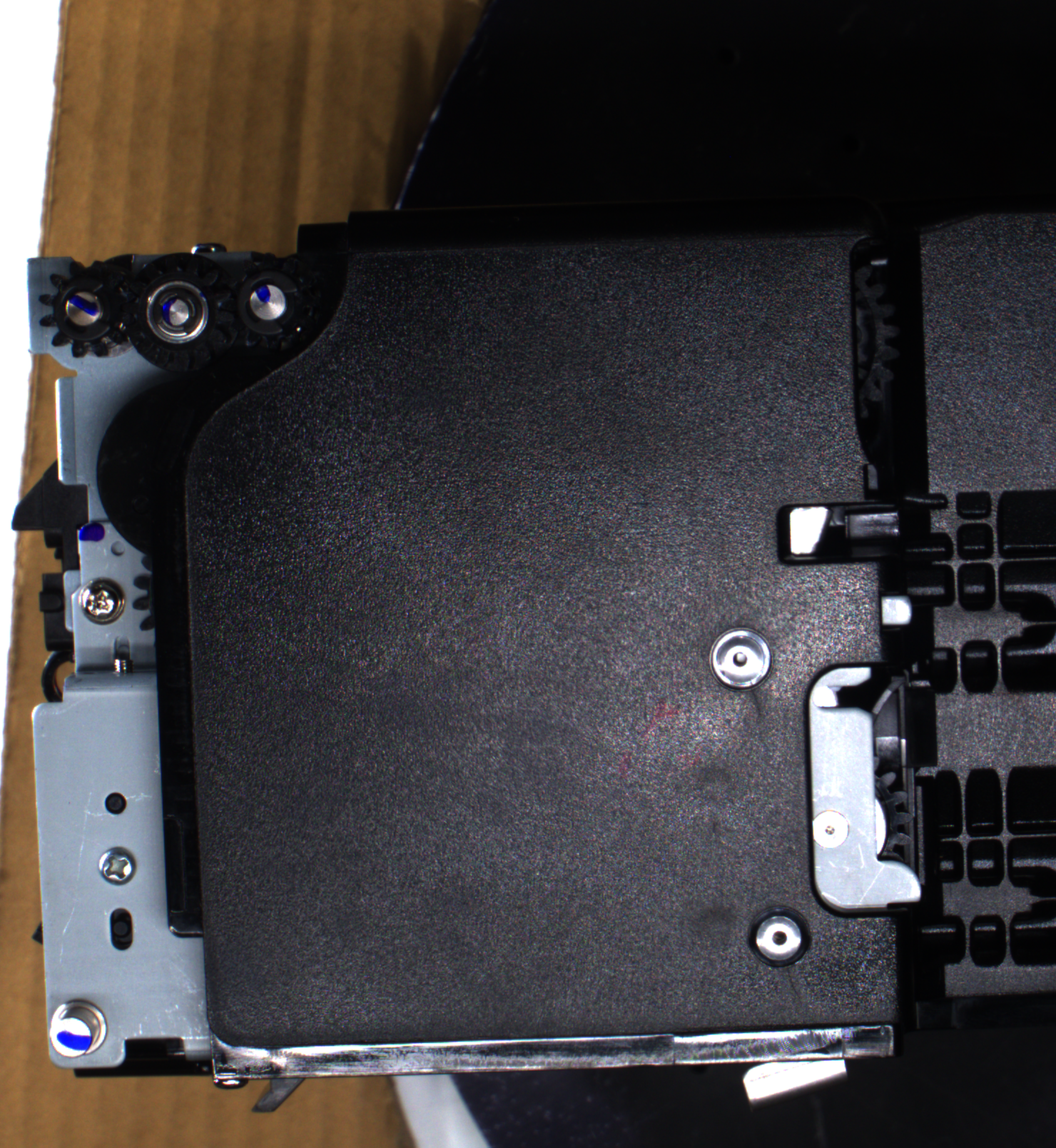centre_pin_presence: (735, 1041, 854, 1109)
centre_plate_presence: (802, 656, 933, 921)
centre_screw_presence: (705, 622, 777, 698), (743, 900, 814, 973)
gear1_presence: (36, 259, 137, 359)
gear2_presence: (121, 252, 234, 373)
gear3_presence: (216, 254, 317, 355)
side_screw_presence: (78, 575, 128, 625), (95, 846, 140, 887)
slanting_pin_presence: (44, 995, 115, 1066)
